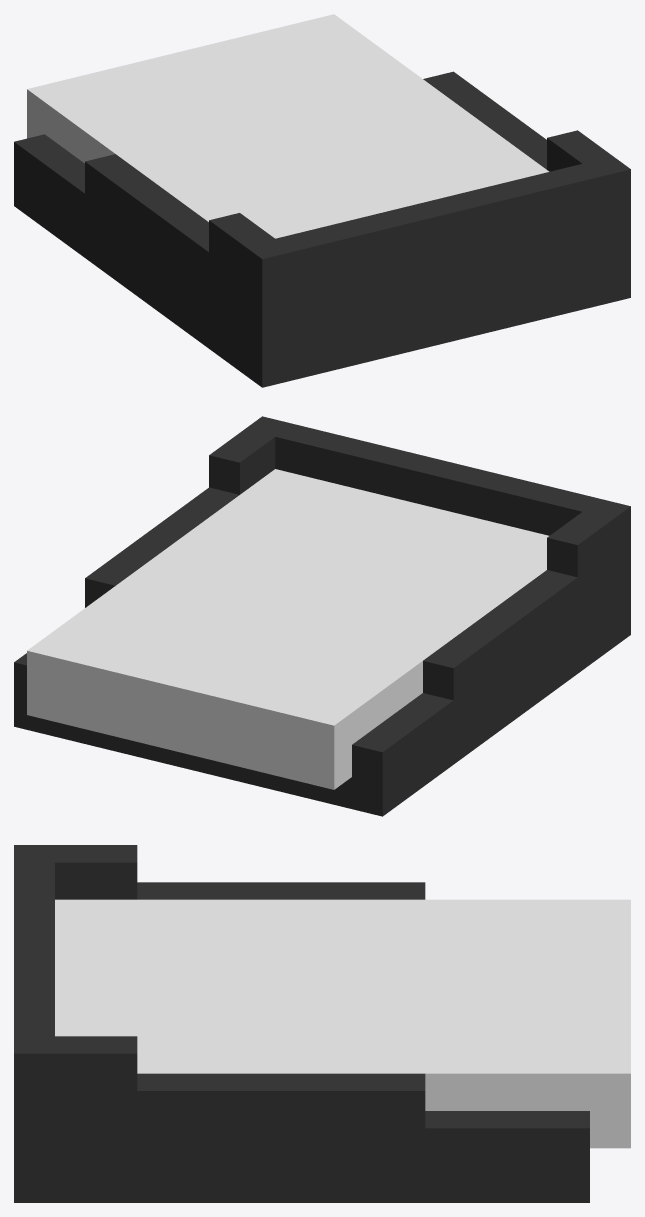
Rendered from printer_paper.glb.
3 renders of one model, top to bottom at view 1: azimuth 30°, elevation 25°; view 2: azimuth 150°, elevation 25°; view 3: azimuth 270°, elevation 25°, orthographic. The views are drawn at different scales.
Parts seen in each view (by area): view 1: Untitled; view 2: Untitled; view 3: Untitled.
Part boxes in pixels (x1,y1,x2,y2): Untitled: [14, 14, 630, 387]; Untitled: [14, 416, 630, 816]; Untitled: [14, 845, 630, 1202].
Bounding box in the file's own units: 0.36 × 0.12 × 0.45.
Materials: 1 (1 with a texture image).
